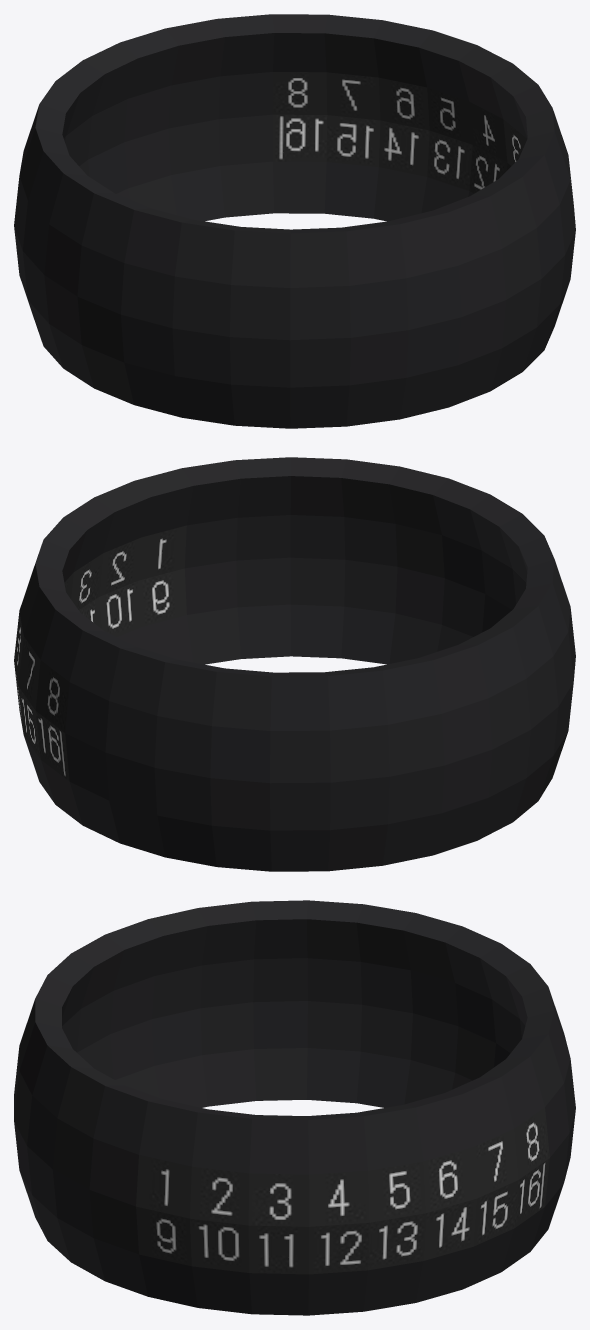
The model's file is sphereKeyboard.fbx.
3 views of the same model, one above another, from view 1: azimuth 30°, elevation 25°; view 2: azimuth 150°, elevation 25°; view 3: azimuth 270°, elevation 25° (orthographic).
Parts seen in each view (by area): view 1: Sphere; view 2: Sphere; view 3: Sphere.
Part boxes in pixels (bbox=[...]): Sphere: bbox=[14, 14, 575, 428]; Sphere: bbox=[14, 457, 575, 871]; Sphere: bbox=[14, 900, 575, 1315].
Size of the model in its own units: 200 by 76.54 by 199.
Materials: 1 (1 with a texture image).
